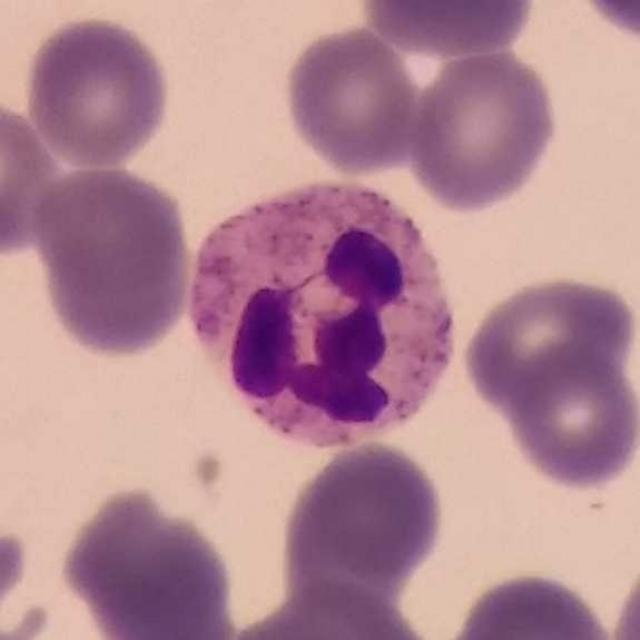Neutrophil: (179, 167, 472, 464)
Platelets: (0, 521, 31, 610)
RBC: (29, 160, 196, 361), (56, 481, 240, 640), (278, 436, 451, 594), (406, 46, 563, 214), (460, 270, 639, 416), (20, 11, 174, 170), (279, 22, 424, 178), (499, 341, 639, 494), (225, 575, 438, 640), (446, 566, 617, 640), (354, 0, 541, 58), (0, 91, 62, 257), (568, 0, 639, 50), (605, 545, 640, 640)
